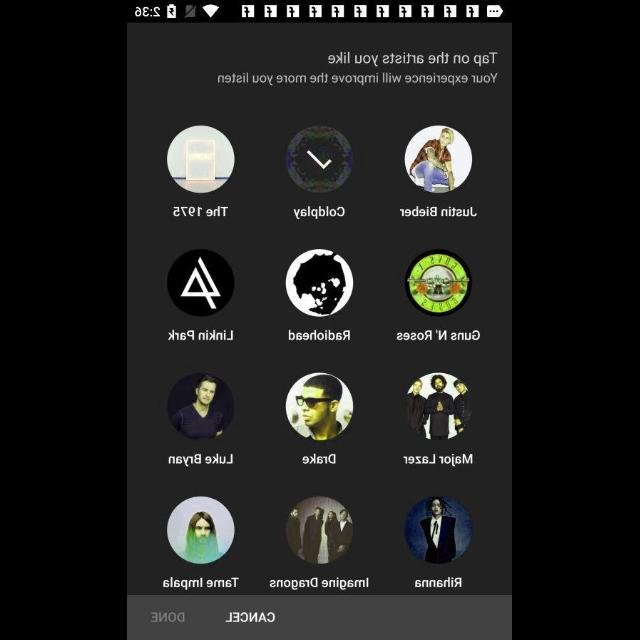image: (168, 496, 236, 564), (286, 373, 354, 441), (167, 250, 235, 318), (168, 126, 236, 194), (405, 126, 473, 194), (286, 250, 354, 316), (286, 127, 352, 195), (286, 497, 352, 563), (406, 497, 472, 563), (168, 373, 234, 439), (406, 373, 472, 439), (406, 251, 472, 317)
text: (219, 72, 499, 86), (324, 53, 498, 67), (270, 577, 370, 591), (163, 577, 240, 591), (396, 329, 479, 341), (403, 454, 473, 468), (400, 206, 478, 218), (169, 453, 233, 467), (169, 329, 235, 341), (289, 330, 351, 342), (294, 206, 346, 220), (174, 206, 230, 218), (226, 612, 276, 624), (414, 576, 462, 588), (152, 611, 186, 623), (303, 452, 337, 464)
uppertaskbar: (128, 1, 512, 23)
